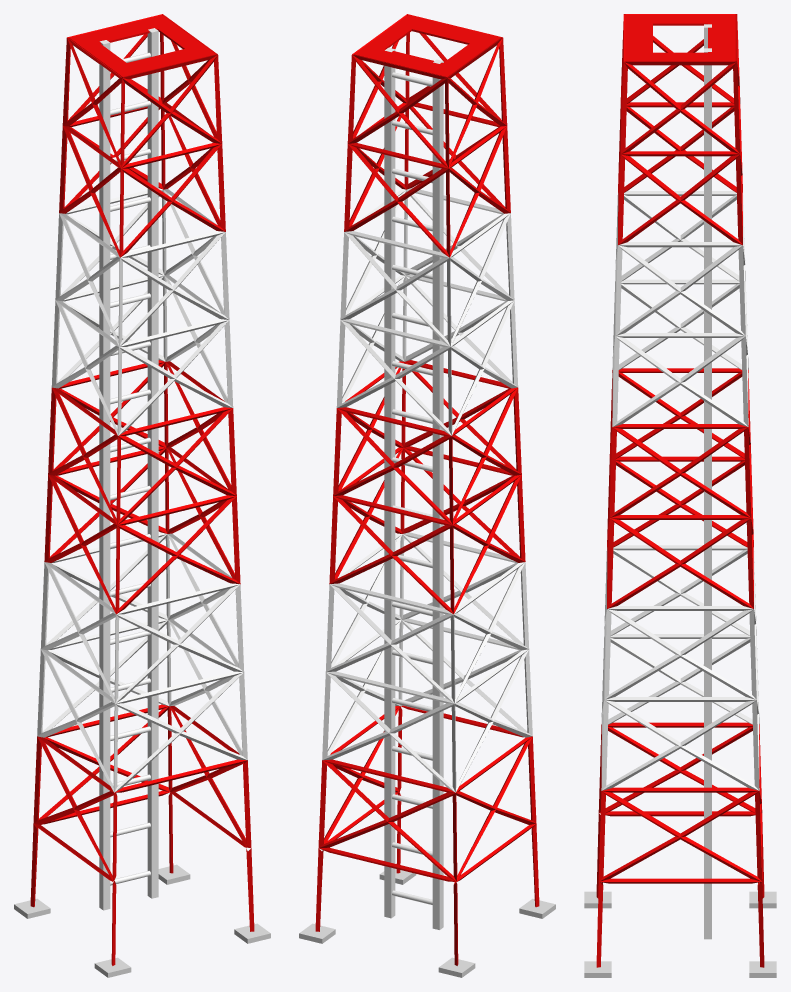
Rendered from Cell Tower.fbx.
3 views of the same model, side by side, from view 1: azimuth 30°, elevation 25°; view 2: azimuth 150°, elevation 25°; view 3: azimuth 270°, elevation 25° (orthographic). The views are drawn at different scales.
Visible parts, largest first — view 1: Tower, Ladder, Cube, Cube.001; view 2: Tower, Ladder, Cube, Cube.001; view 3: Tower, Ladder, Cube, Cube.001.
Boxes of the visible parts, box(x1,y1,x2,y2) form: Tower: box(30, 14, 254, 965); Ladder: box(99, 28, 158, 910); Cube: box(69, 15, 215, 77); Cube.001: box(14, 864, 270, 977); Tower: box(315, 14, 539, 965); Ladder: box(384, 47, 443, 929); Cube: box(354, 15, 500, 77); Cube.001: box(299, 869, 555, 977); Tower: box(596, 14, 764, 967); Ladder: box(704, 24, 711, 939); Cube: box(625, 15, 735, 61); Cube.001: box(584, 891, 776, 977).
Bounding box in the file's own units: 350 × 1806 × 350.
